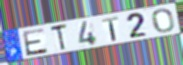2: (127, 11, 151, 40)
4: (77, 19, 98, 47)
E: (21, 27, 49, 58)
O: (151, 8, 176, 34)
T: (49, 22, 69, 52), (101, 15, 120, 42)
